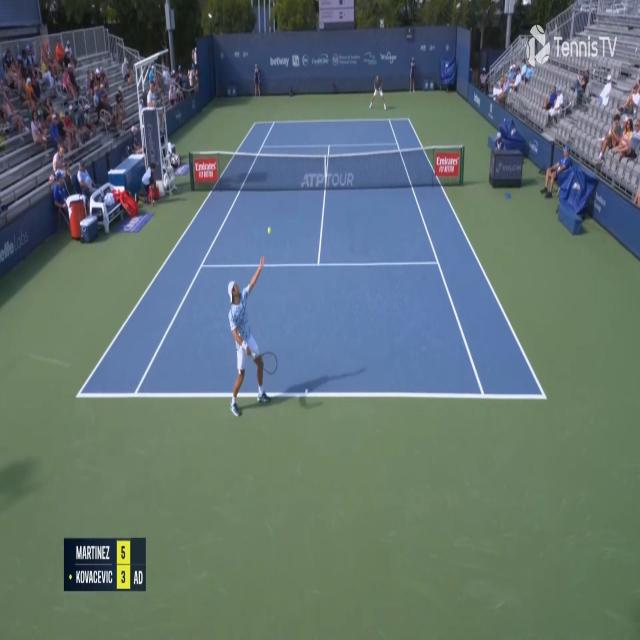tennis-player: (226, 252, 277, 419), (366, 74, 386, 112)
